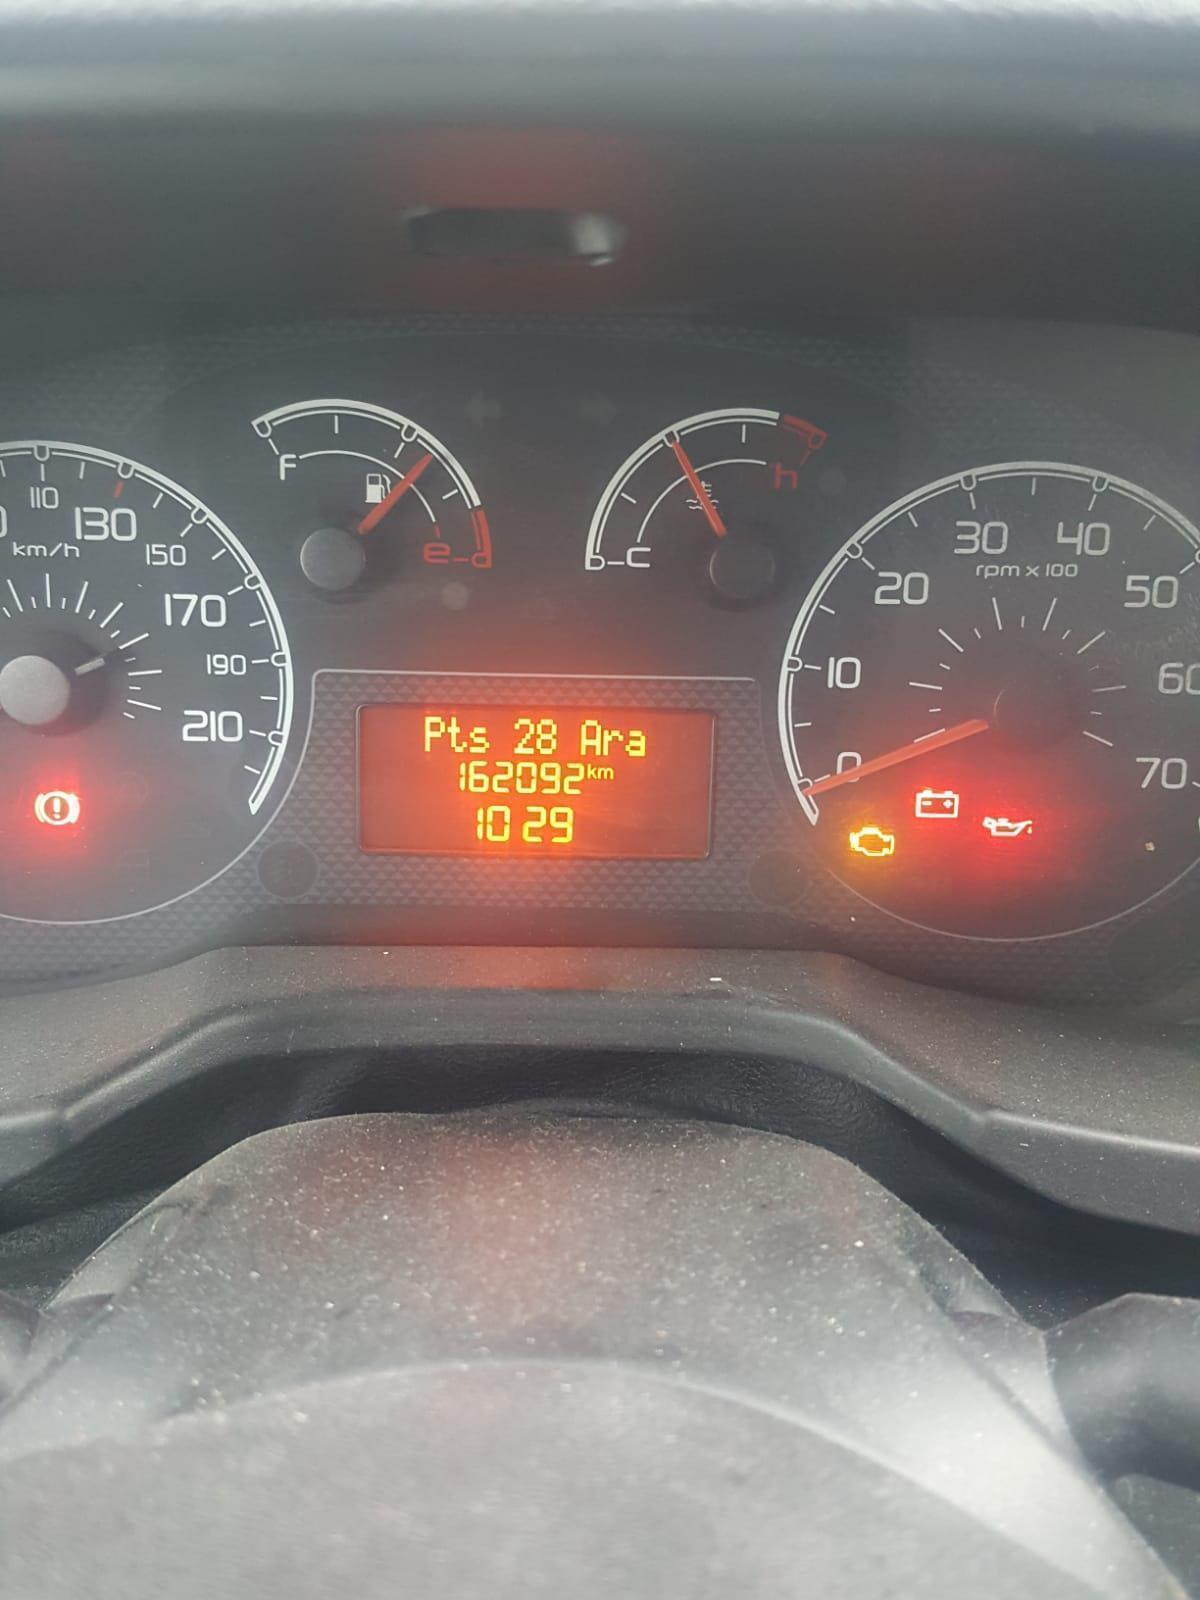0: (487, 804, 511, 843), (516, 760, 537, 795)
1: (474, 805, 484, 842), (458, 758, 466, 792)
2: (521, 804, 547, 844), (512, 714, 534, 755), (492, 758, 513, 792), (563, 760, 584, 795)
6: (468, 758, 490, 792)
8: (534, 716, 558, 756)
9: (548, 804, 574, 843), (538, 760, 562, 795)
X: (445, 713, 468, 753), (579, 719, 603, 757), (424, 713, 445, 753), (468, 723, 490, 753), (626, 728, 647, 758), (603, 728, 624, 756), (597, 765, 614, 780), (587, 763, 596, 780)
odometer: (359, 700, 716, 860)
